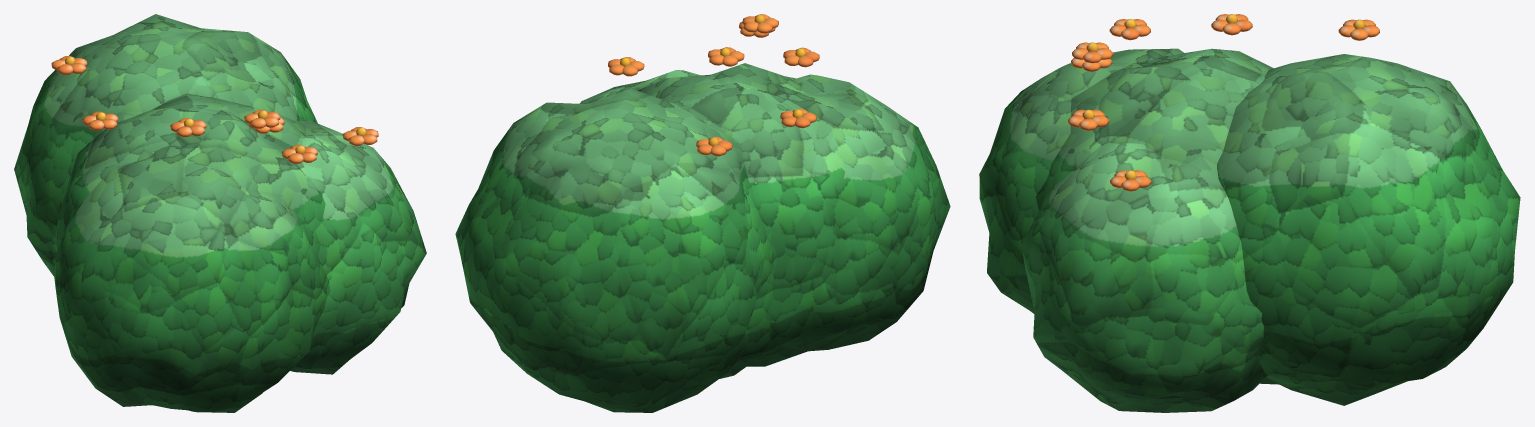
The model's file is bush_c.glb.
3 views of the same model, side by side, from view 1: azimuth 30°, elevation 25°; view 2: azimuth 150°, elevation 25°; view 3: azimuth 270°, elevation 25° (orthographic). The views are drawn at different scales.
Visible parts, largest first — view 1: Bush_leaf; view 2: Bush_leaf; view 3: Bush_leaf.
Boxes of the visible parts, x1=… form: Bush_leaf: x1=14, y1=14, x2=426, y2=412; Bush_leaf: x1=455, y1=14, x2=950, y2=412; Bush_leaf: x1=979, y1=14, x2=1520, y2=412.
Bounding box in the file's own units: 1.54 × 1.27 × 1.87.
1 material, 1 textured.
